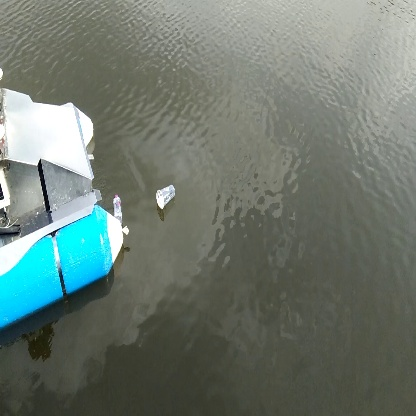bottle: (152, 182, 179, 214)
